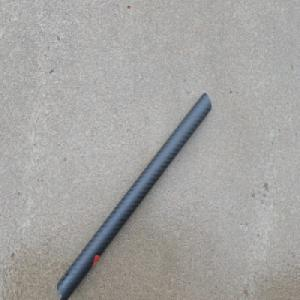LuggagePart: (57, 91, 213, 298)
